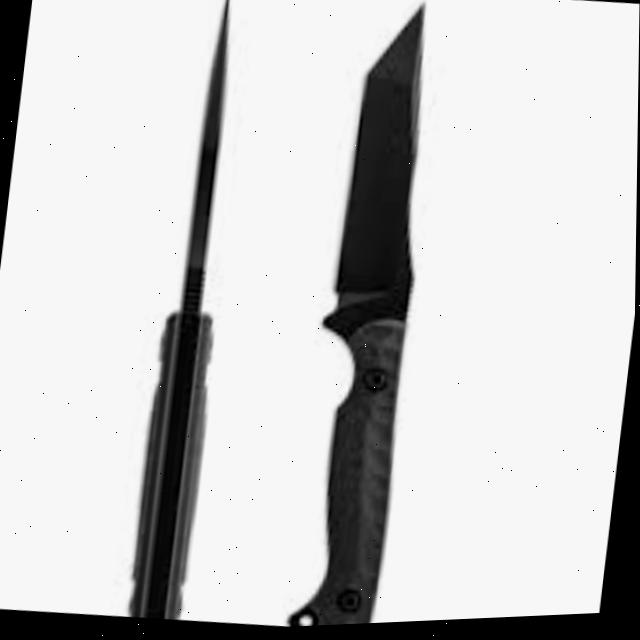knife: (289, 0, 451, 630), (129, 0, 260, 623)
